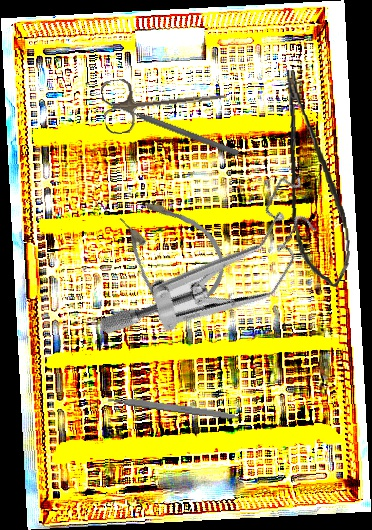Cannula: (102, 179, 241, 324)
Iris Scissors: (100, 66, 230, 136)
Micro Scissor: (278, 65, 356, 291)
Pusher: (107, 99, 241, 158)
Scalpel Handle: (108, 393, 241, 422)
Speculum: (93, 124, 341, 402)
